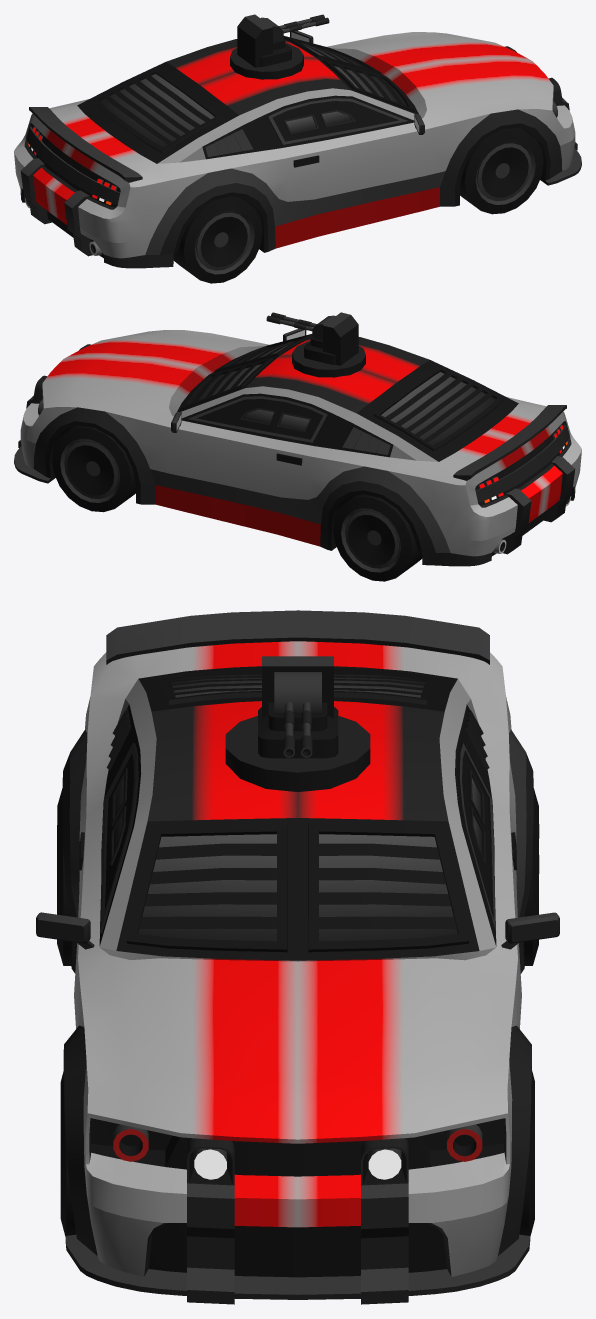
Rendered from RaceCar_049.glb.
3 views of the same model, one above another, from view 1: azimuth 30°, elevation 25°; view 2: azimuth 150°, elevation 25°; view 3: azimuth 270°, elevation 25° (orthographic). The views are drawn at different scales.
Parts seen in each view (by area): view 1: RaceCar_049, wheel_3_RaceCar_049_Wheel_2R, wheel_1_RaceCar_049_Wheel_1R; view 2: RaceCar_049, wheel_2_RaceCar_049_Wheel_2L, wheel_0_RaceCar_049_Wheel_1L; view 3: RaceCar_049, wheel_2_RaceCar_049_Wheel_2L, wheel_3_RaceCar_049_Wheel_2R, wheel_1_RaceCar_049_Wheel_1R, wheel_0_RaceCar_049_Wheel_1L.
Part boxes in pixels (x1=…): RaceCar_049: x1=14, y1=14, x2=581, y2=268; wheel_3_RaceCar_049_Wheel_2R: x1=173, y1=196, x2=262, y2=283; wheel_1_RaceCar_049_Wheel_1R: x1=460, y1=127, x2=543, y2=214; RaceCar_049: x1=14, y1=312, x2=581, y2=566; wheel_2_RaceCar_049_Wheel_2L: x1=333, y1=494, x2=422, y2=581; wheel_0_RaceCar_049_Wheel_1L: x1=52, y1=425, x2=135, y2=512; RaceCar_049: x1=36, y1=610, x2=559, y2=1304; wheel_2_RaceCar_049_Wheel_2L: x1=524, y1=788, x2=539, y2=965; wheel_3_RaceCar_049_Wheel_2R: x1=57, y1=788, x2=71, y2=965; wheel_1_RaceCar_049_Wheel_1R: x1=60, y1=1071, x2=76, y2=1236; wheel_0_RaceCar_049_Wheel_1L: x1=519, y1=1071, x2=534, y2=1236.
Size of the model in its own units: 4.76 by 1.75 by 2.14.
Materials: 2 (2 with a texture image).
